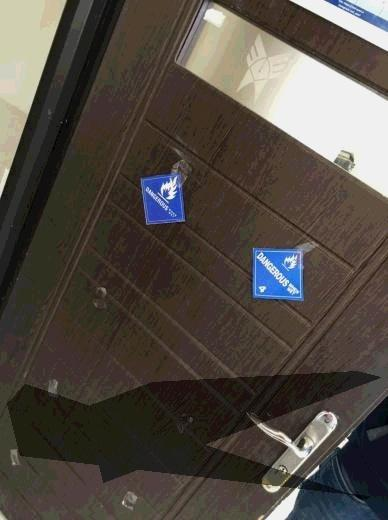dangerous-when-wet: (253, 249, 306, 303), (140, 177, 188, 228)
